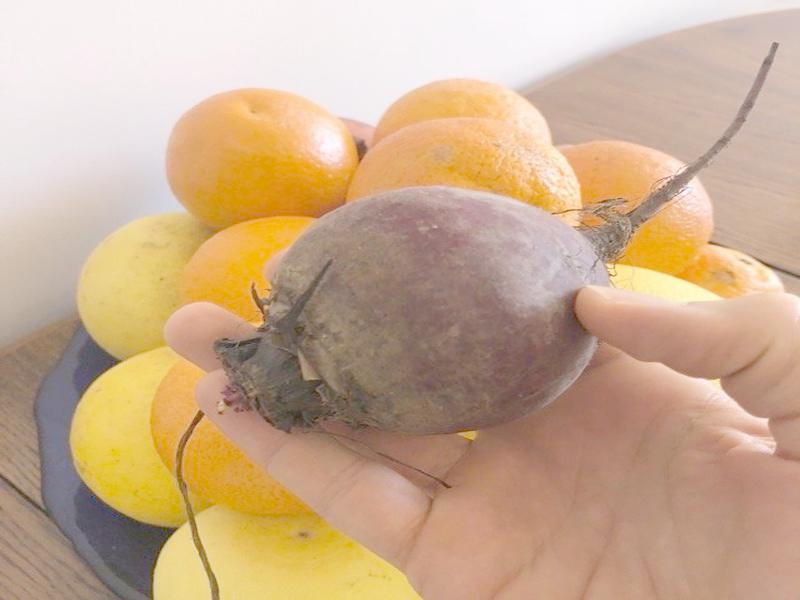Beet: (223, 41, 778, 434)
